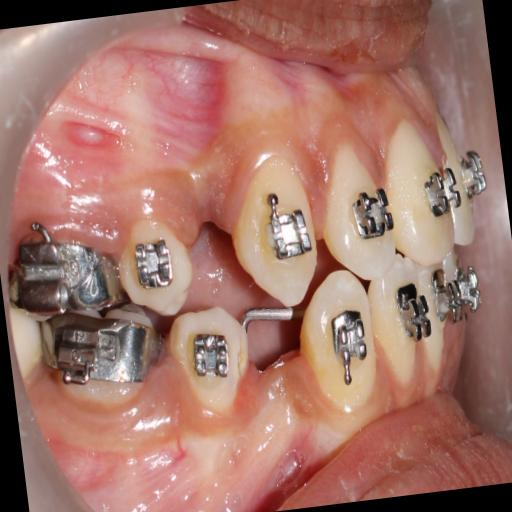correct_brace: (117, 214, 196, 318), (264, 200, 315, 268), (347, 180, 394, 246), (419, 160, 461, 221)
incorrect_brace: (313, 148, 396, 281), (130, 232, 178, 294)
